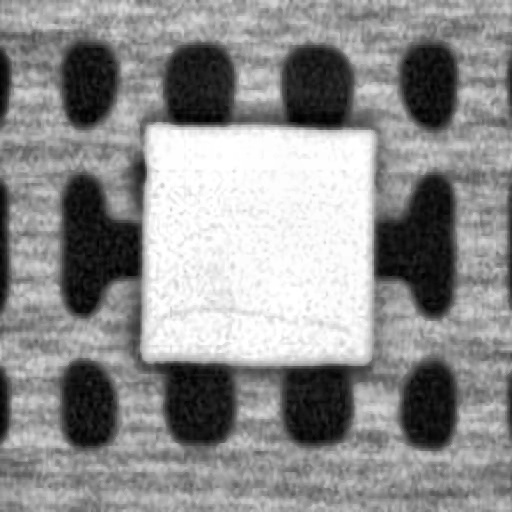DIE_CRACK: (163, 294, 349, 337)
